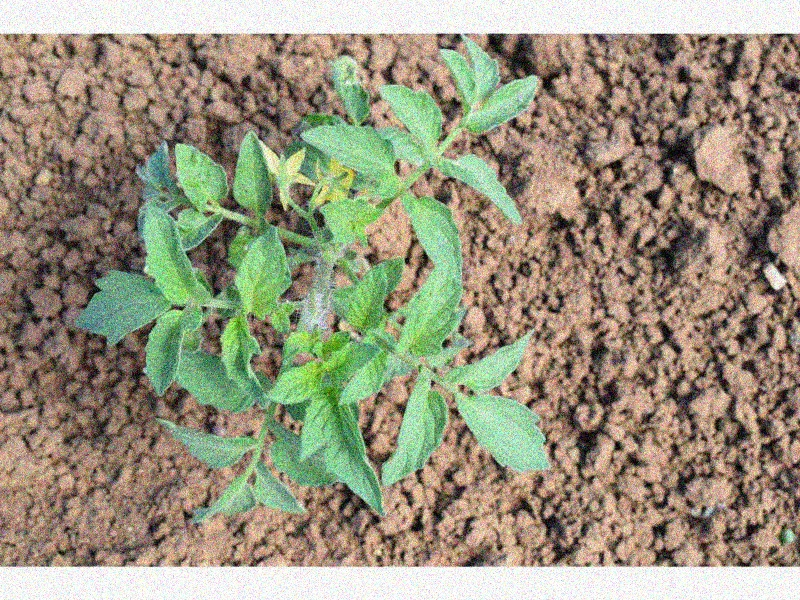tomato: (72, 36, 552, 524)
